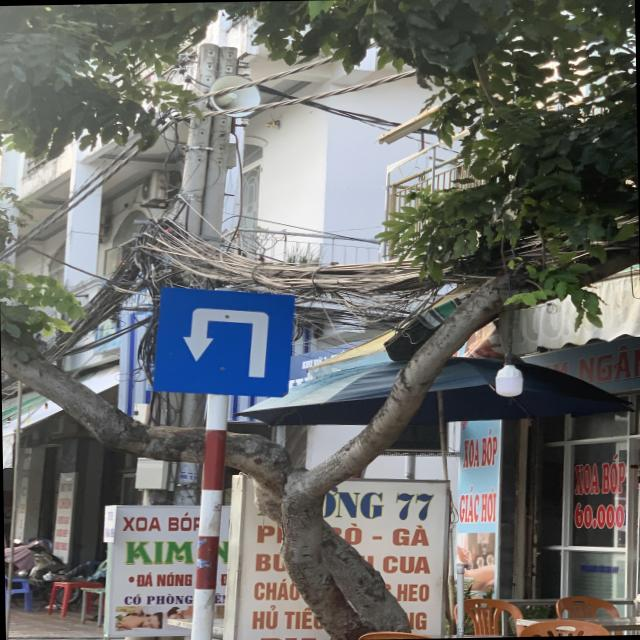Den_Giao_Thong: (154, 284, 294, 396)
